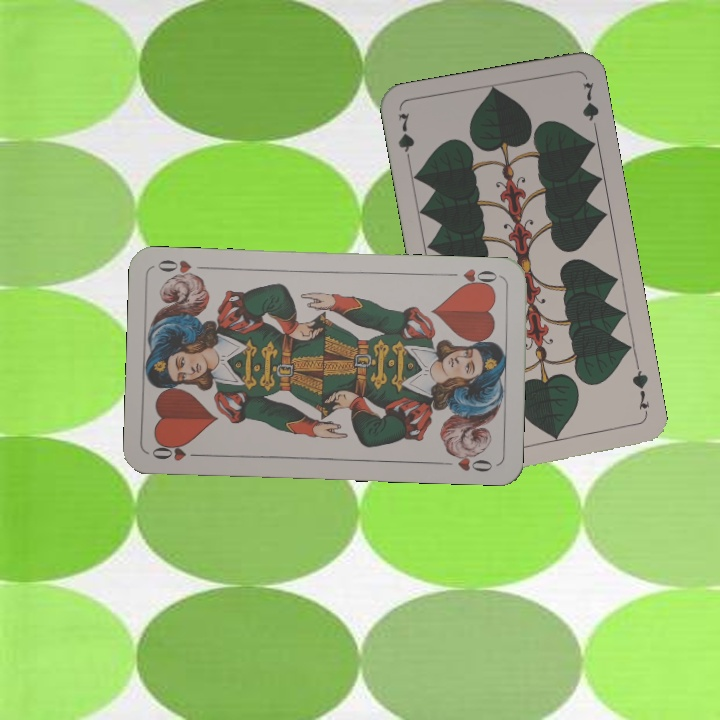G7: (628, 361, 652, 420), (394, 109, 417, 167)
HO: (443, 264, 499, 291), (148, 439, 207, 464)
